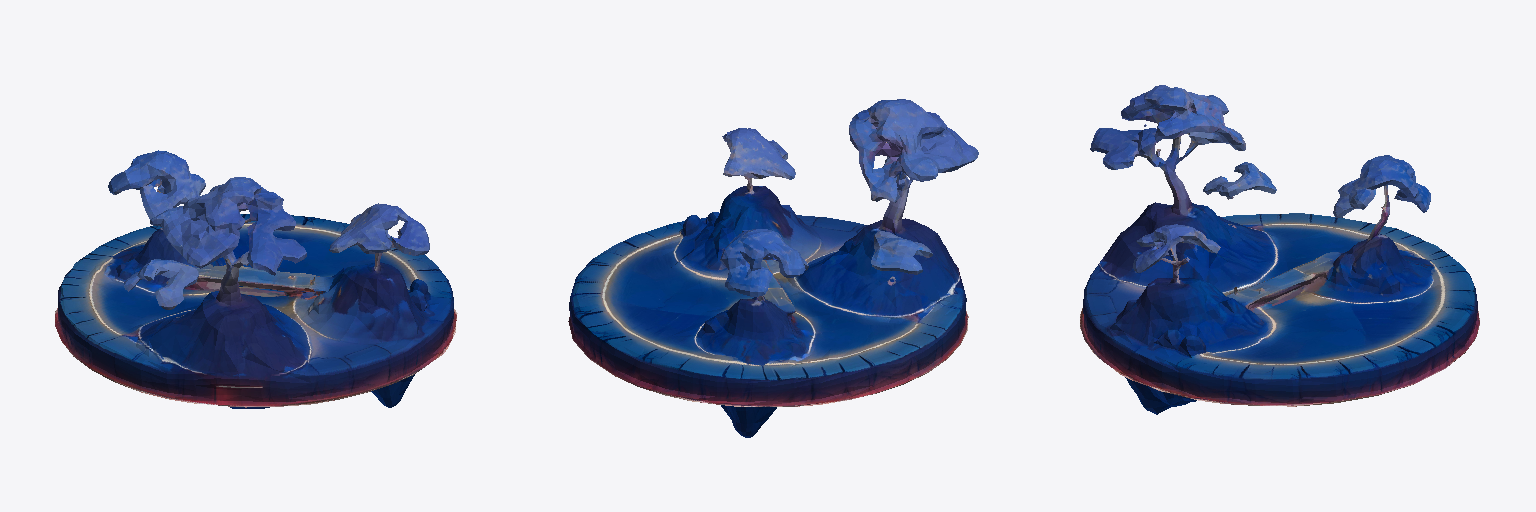
The picture shows the model from 3 angles: view 1: azimuth 30°, elevation 25°; view 2: azimuth 150°, elevation 25°; view 3: azimuth 270°, elevation 25°; orthographic projection.
Visible parts, largest first — view 1: tripo_node_d980647d-2440-485d-a5d7-[number redacted]c0d5e; view 2: tripo_node_d980647d-2440-485d-a5d7-[number redacted]c0d5e; view 3: tripo_node_d980647d-2440-485d-a5d7-[number redacted]c0d5e.
Boxes of the visible parts, <box> form: tripo_node_d980647d-2440-485d-a5d7-[number redacted]c0d5e: <box>55,150,457,408</box>; tripo_node_d980647d-2440-485d-a5d7-[number redacted]c0d5e: <box>568,99,978,437</box>; tripo_node_d980647d-2440-485d-a5d7-[number redacted]c0d5e: <box>1080,85,1479,414</box>.
Size of the model in its own units: 0.9804 by 0.7213 by 0.9882.
1 materials, 1 textured.